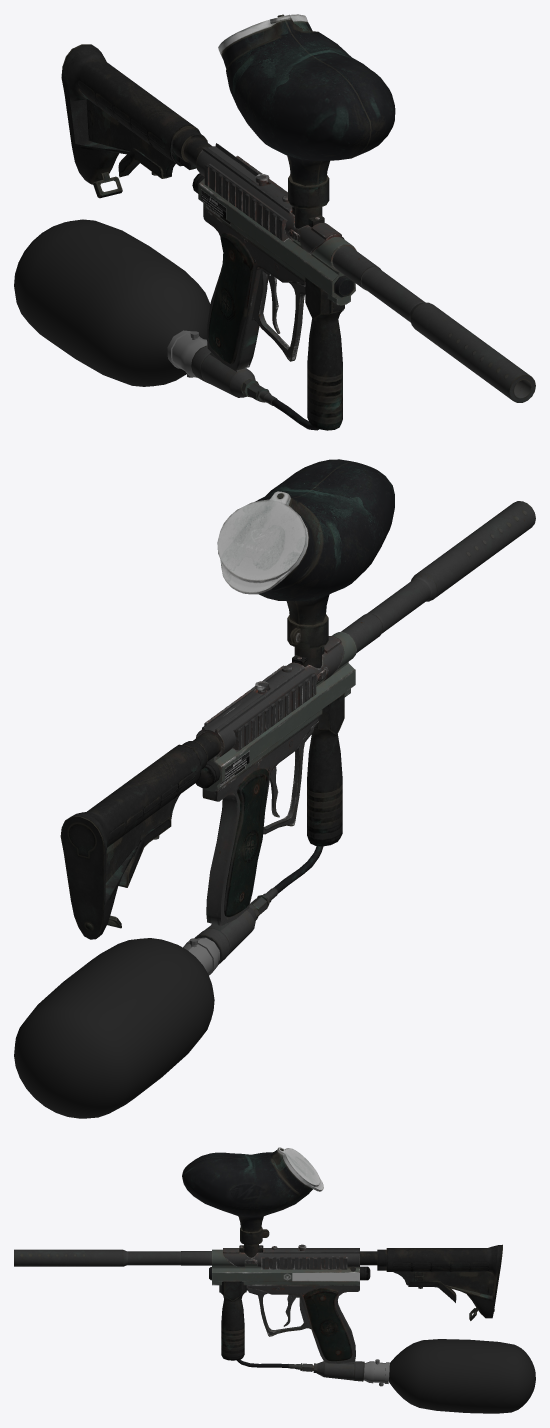
The model's file is paintball_gun.glb.
3 views of the same model, one above another, from view 1: azimuth 30°, elevation 25°; view 2: azimuth 150°, elevation 25°; view 3: azimuth 270°, elevation 25° (orthographic). The views are drawn at different scales.
Visible parts, largest first — view 1: Decal logo, real gas tank, gas Cylinder.; view 2: Decal logo, real gas tank, gas Cylinder.; view 3: Decal logo, real gas tank, gas Cylinder..
Part boxes in pixels (bbox=[...]): Decal logo: bbox=[61, 14, 535, 430]; real gas tank: bbox=[14, 219, 210, 386]; gas Cylinder.: bbox=[167, 330, 207, 377]; Decal logo: bbox=[60, 459, 535, 964]; real gas tank: bbox=[14, 938, 214, 1118]; gas Cylinder.: bbox=[183, 937, 219, 975]; Decal logo: bbox=[14, 1147, 502, 1381]; real gas tank: bbox=[389, 1339, 535, 1413]; gas Cylinder.: bbox=[363, 1361, 389, 1383].
Bounding box in the file's own units: 0.1204 × 0.4405 × 0.797.
4 materials, 1 textured.
